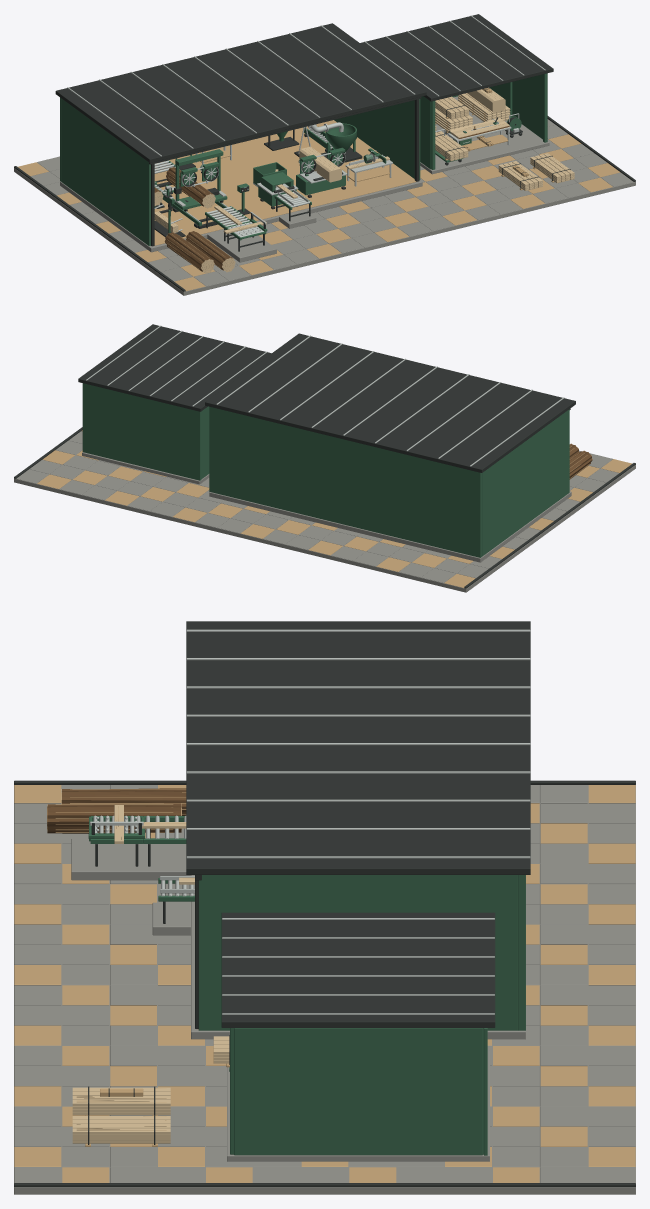
File: sawmill-and-timber-yard-working-timber-y-19c9ef1e-starter-scene__31207.glb
3 views of the same model, one above another, from view 1: azimuth 30°, elevation 25°; view 2: azimuth 150°, elevation 25°; view 3: azimuth 270°, elevation 25° (orthographic). The views are drawn at different scales.
Visible parts, largest first — view 1: 001-roofed-sawmill-shed/2, 000-timber-yard-base/2, 001-roofed-sawmill-shed/3, 002-covered-timber-store/1, 001-roofed-sawmill-shed/1, 000-timber-yard-base/0, 002-covered-timber-store/2, 002-covered-timber-store/3, 001-roofed-sawmill-shed/0, 001-roofed-sawmill-shed/4, 018-band-saw-head/2, 000-timber-yard-base/1 (+19 smaller); view 2: 001-roofed-sawmill-shed/3, 001-roofed-sawmill-shed/2, 000-timber-yard-base/2, 002-covered-timber-store/1, 002-covered-timber-store/2, 000-timber-yard-base/0, 001-roofed-sawmill-shed/0, 001-roofed-sawmill-shed/4, 000-timber-yard-base/1, 002-covered-timber-store/0, 002-covered-timber-store/3, 067-unprocessed-bark-log/2; view 3: 000-timber-yard-base/2, 001-roofed-sawmill-shed/2, 000-timber-yard-base/0, 002-covered-timber-store/2, 002-covered-timber-store/1, 001-roofed-sawmill-shed/3, 001-roofed-sawmill-shed/0, 000-timber-yard-base/1, 002-covered-timber-store/0, 071-banded-timber-bundle/2, 070-banded-timber-bundle/2, 066-unprocessed-bark-log/2 (+3 smaller).
Part boxes in pixels (<box>): 001-roofed-sawmill-shed/2: <box>55,23,426,246</box>; 000-timber-yard-base/2: <box>14,119,635,295</box>; 001-roofed-sawmill-shed/3: <box>60,97,420,245</box>; 002-covered-timber-store/1: <box>360,14,553,101</box>; 001-roofed-sawmill-shed/1: <box>154,120,416,245</box>; 000-timber-yard-base/0: <box>17,134,620,291</box>; 002-covered-timber-store/2: <box>420,73,547,169</box>; 002-covered-timber-store/3: <box>420,96,549,174</box>; 001-roofed-sawmill-shed/0: <box>67,25,415,156</box>; 001-roofed-sawmill-shed/4: <box>60,180,422,252</box>; 018-band-saw-head/2: <box>175,149,223,201</box>; 000-timber-yard-base/1: <box>14,116,635,291</box>; 001-roofed-sawmill-shed/3: <box>209,406,569,557</box>; 001-roofed-sawmill-shed/2: <box>205,333,575,472</box>; 000-timber-yard-base/2: <box>14,431,635,592</box>; 002-covered-timber-store/1: <box>78,324,271,411</box>; 002-covered-timber-store/2: <box>82,383,209,480</box>; 000-timber-yard-base/0: <box>37,430,631,587</box>; 001-roofed-sawmill-shed/0: <box>216,335,564,466</box>; 001-roofed-sawmill-shed/4: <box>209,491,571,562</box>; 000-timber-yard-base/1: <box>14,427,635,588</box>; 002-covered-timber-store/0: <box>86,325,267,406</box>; 002-covered-timber-store/3: <box>82,452,209,484</box>; 067-unprocessed-bark-log/2: <box>569,450,592,479</box>; 000-timber-yard-base/2: <box>14,785,635,1194</box>; 001-roofed-sawmill-shed/2: <box>186,621,530,1028</box>; 000-timber-yard-base/0: <box>14,785,635,1182</box>; 002-covered-timber-store/2: <box>230,1028,487,1155</box>; 002-covered-timber-store/1: <box>221,912,495,1027</box>; 001-roofed-sawmill-shed/3: <box>198,875,525,1030</box>; 001-roofed-sawmill-shed/0: <box>186,629,530,858</box>; 000-timber-yard-base/1: <box>14,780,635,1187</box>; 002-covered-timber-store/0: <box>222,918,494,1014</box>; 071-banded-timber-bundle/2: <box>72,1116,170,1143</box>; 070-banded-timber-bundle/2: <box>72,1087,170,1115</box>; 066-unprocessed-bark-log/2: <box>47,803,181,833</box>.
Size of the model in its own units: 20 by 4.21 by 13.
